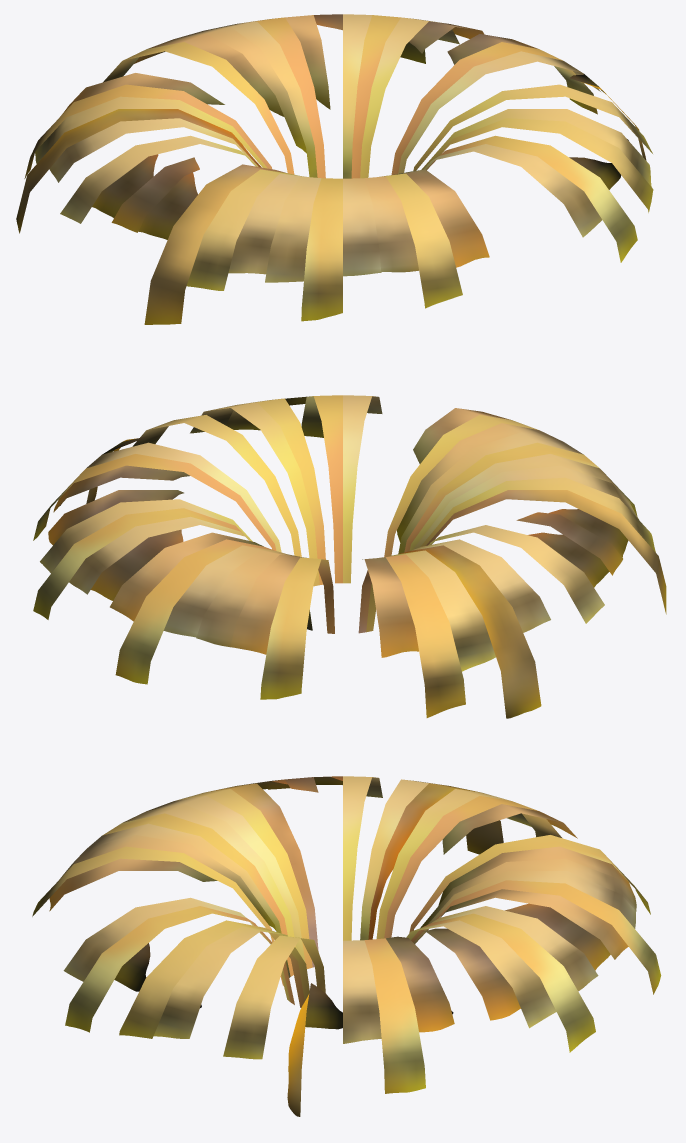
The model's file is cursor.fbx.
3 views of the same model, one above another, from view 1: azimuth 30°, elevation 25°; view 2: azimuth 150°, elevation 25°; view 3: azimuth 270°, elevation 25° (orthographic).
Parts seen in each view (by area): view 1: Torus_001; view 2: Torus_001; view 3: Torus_001.
Boxes of the visible parts, x1=… form: Torus_001: x1=16, y1=14, x2=653, y2=324; Torus_001: x1=33, y1=395, x2=666, y2=718; Torus_001: x1=32, y1=776, x2=661, y2=1116.
Bounding box in the file's own units: 1.96 × 0.39 × 1.96.
